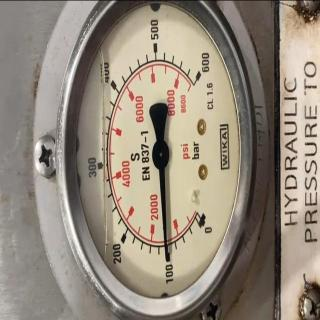gauge: (53, 1, 279, 319), (190, 204, 224, 239), (186, 58, 214, 90), (149, 140, 173, 168), (160, 248, 172, 264)
